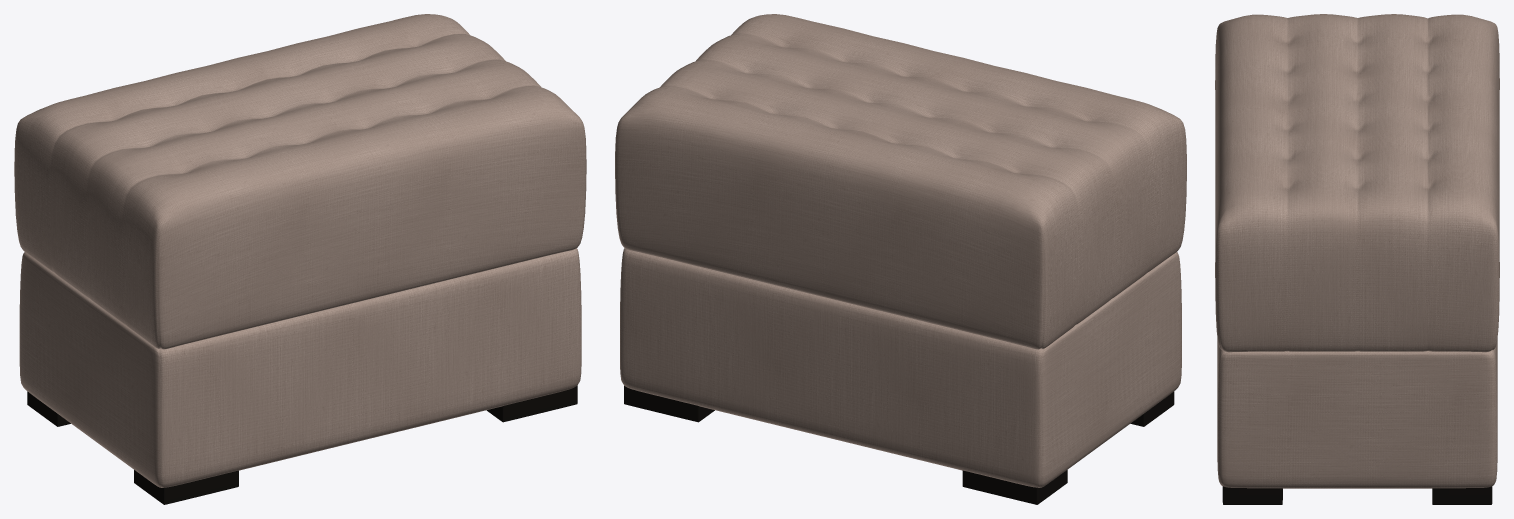
The model's file is puff.glb.
3 renders of one model, left to right at view 1: azimuth 30°, elevation 25°; view 2: azimuth 150°, elevation 25°; view 3: azimuth 270°, elevation 25°, orthographic.
Visible parts, largest first — view 1: Shelter pouf; view 2: Shelter pouf; view 3: Shelter pouf.
Boxes of the visible parts, x1,y1,x2,y2 form: Shelter pouf: (14,14,586,504); Shelter pouf: (615,14,1186,504); Shelter pouf: (1215,14,1499,504).
Size of the model in its own units: 0.7287 by 0.493 by 0.4225.
2 materials, 1 textured.
